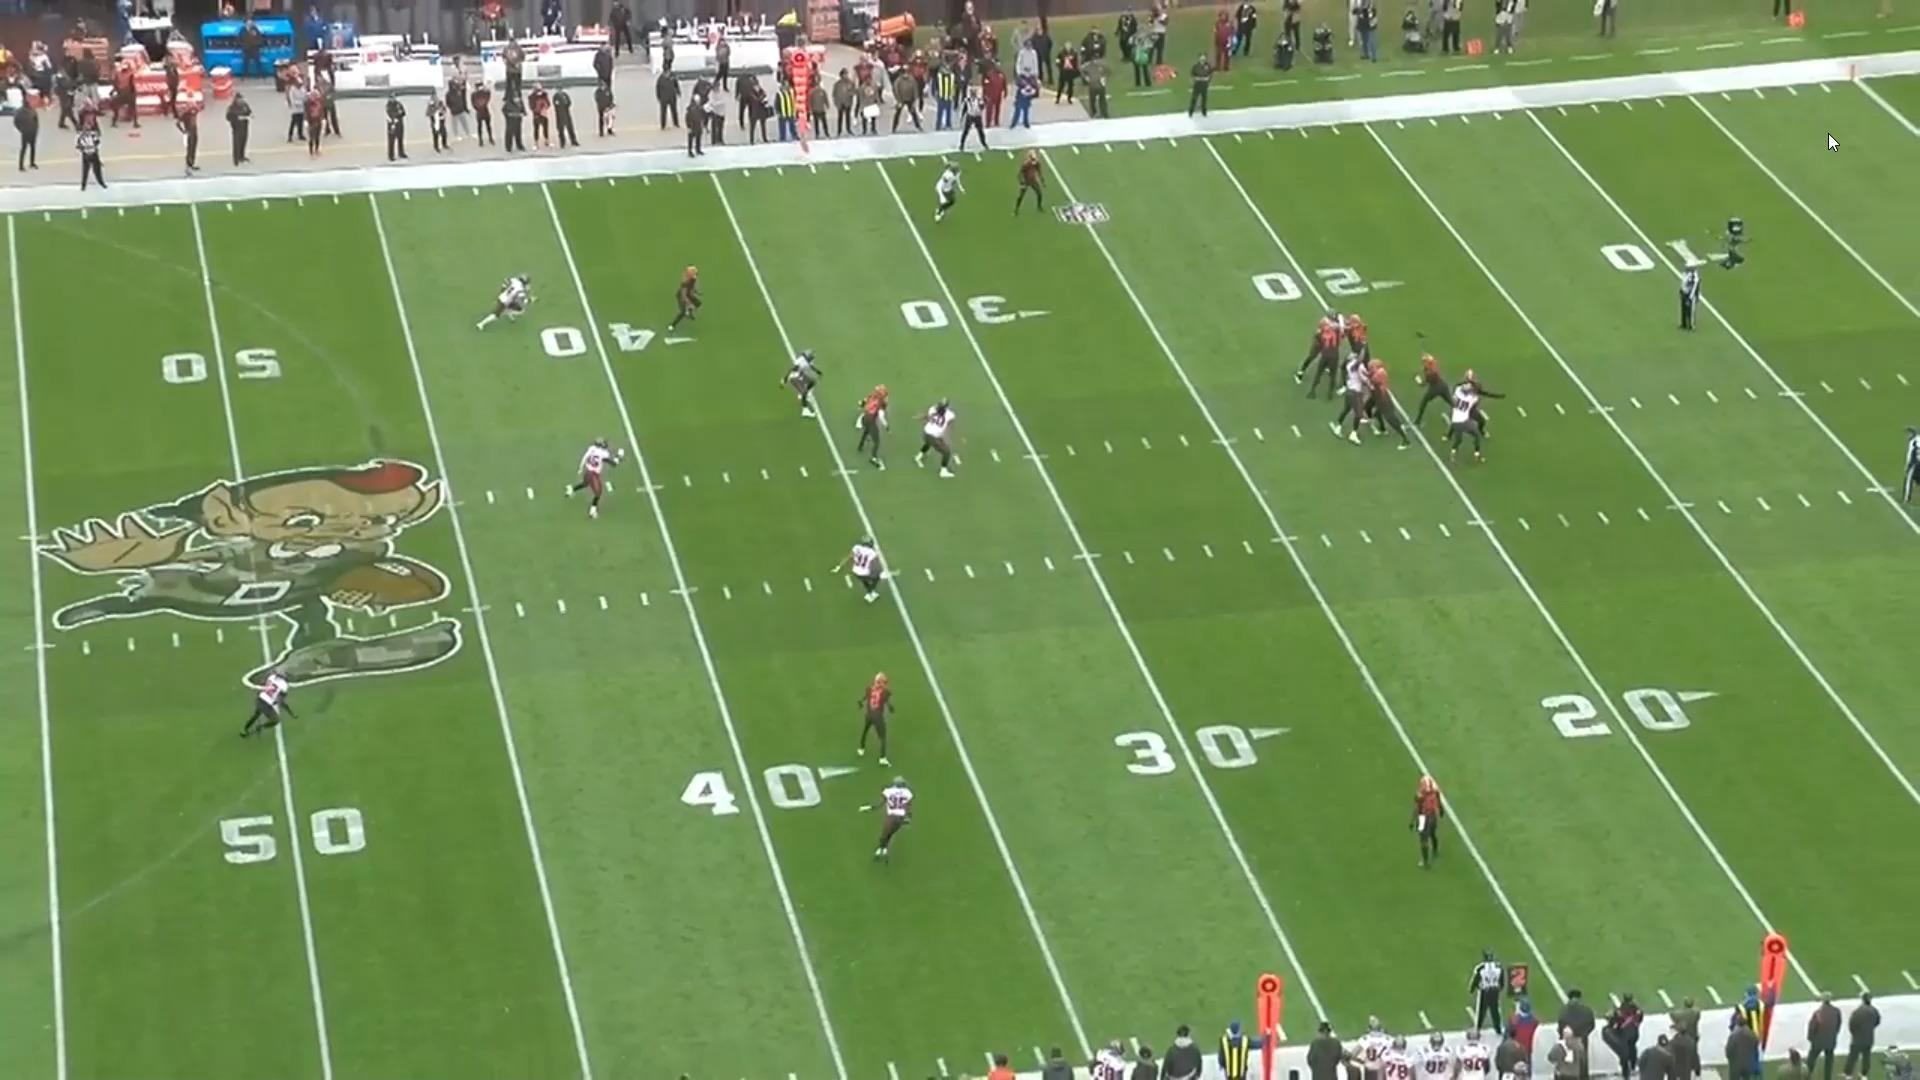10R: (1600, 240, 1741, 272)
20R: (1539, 687, 1722, 740), (1250, 266, 1407, 302)
30R: (1113, 723, 1291, 777), (899, 291, 1055, 331)
40R: (680, 761, 861, 819), (537, 322, 700, 359)
50: (218, 804, 368, 865), (160, 345, 282, 385)
